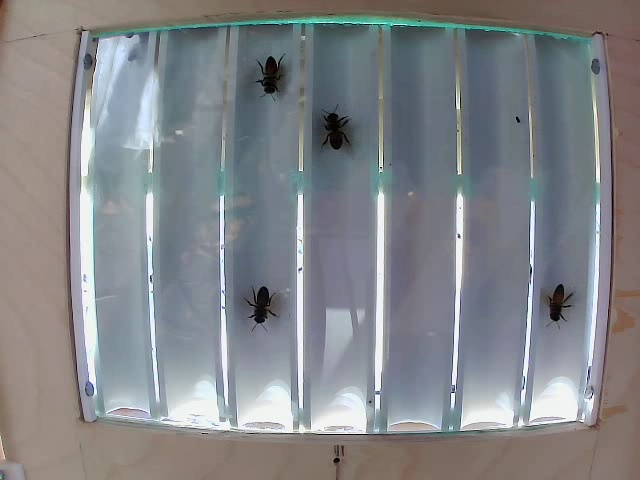bee: (242, 276, 283, 332), (308, 110, 357, 153), (545, 275, 579, 331), (258, 62, 293, 100)
